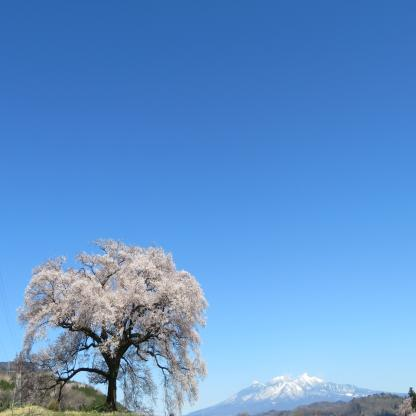EdohiganSakura: (17, 233, 211, 410)
